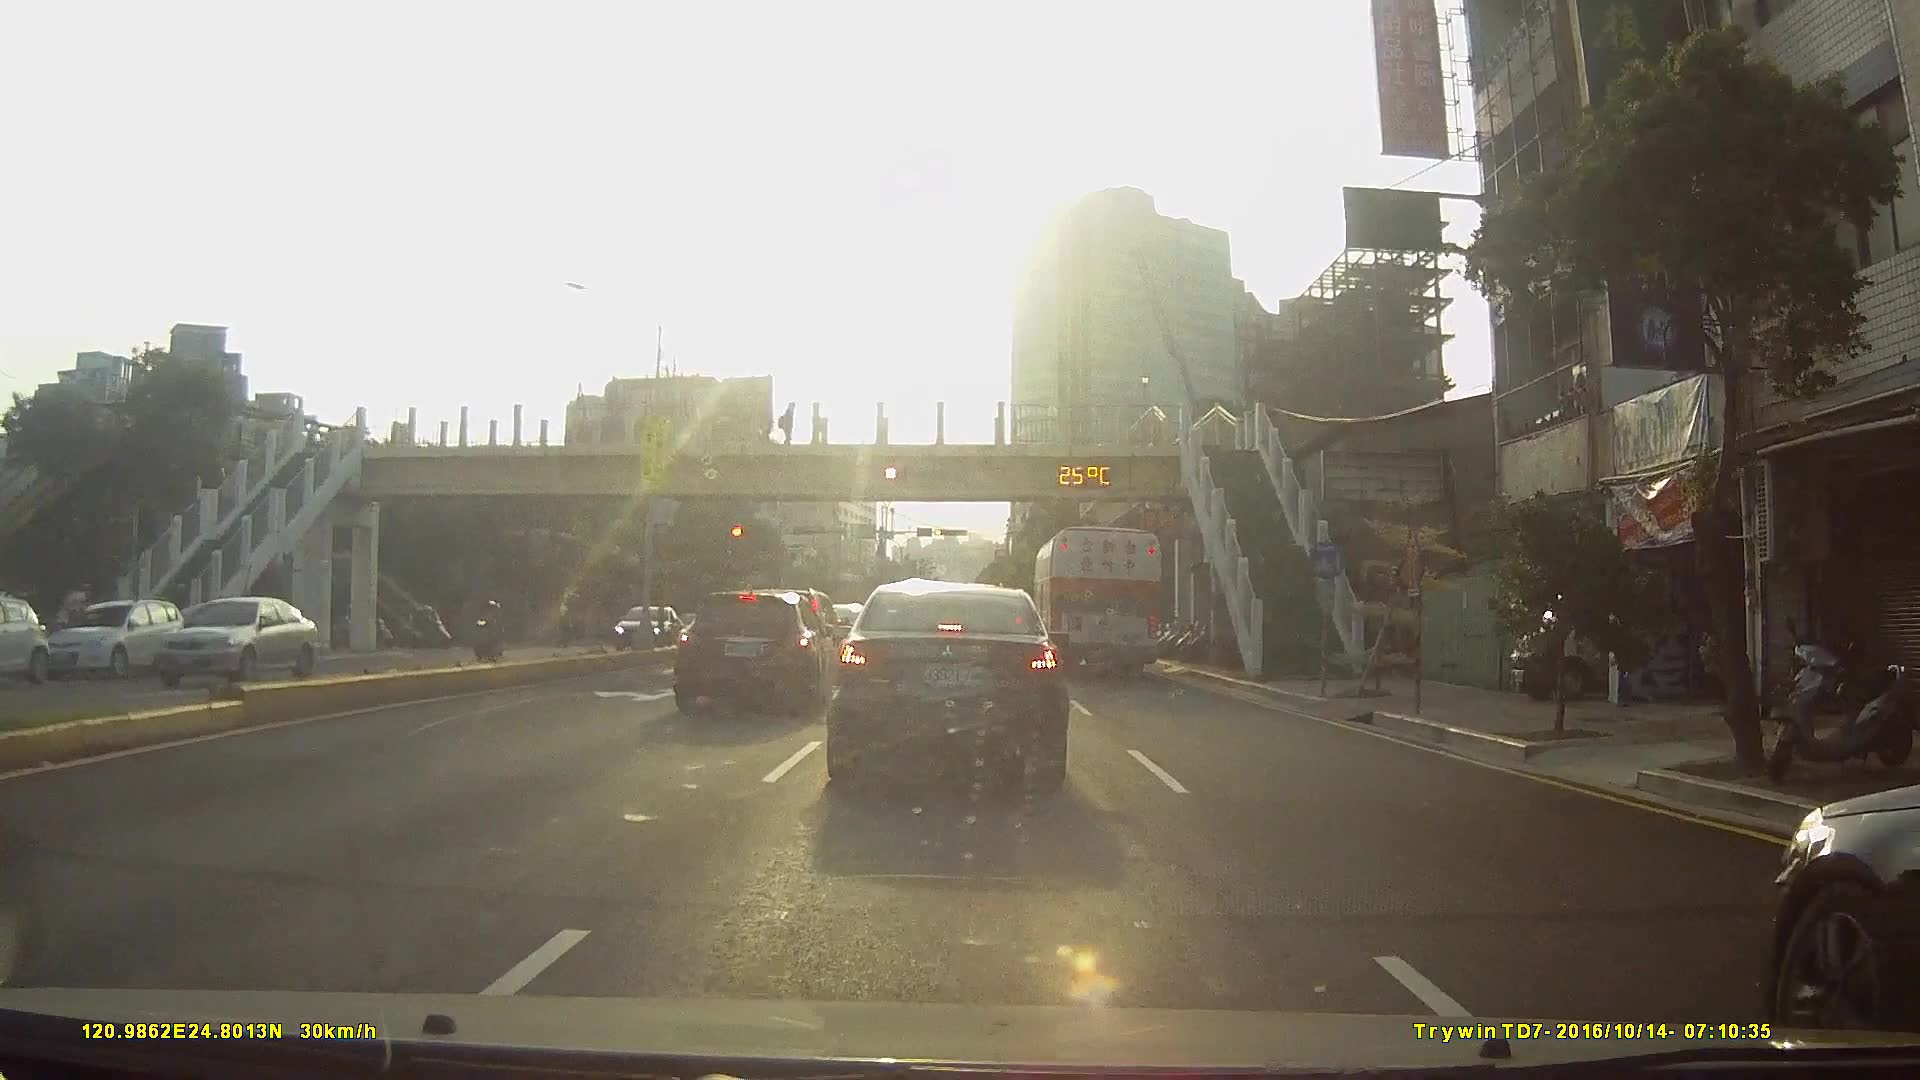pedestrian: (778, 402, 798, 448)
rider: (471, 597, 506, 663)
vehicle: (822, 581, 1071, 791), (666, 585, 842, 718), (1032, 523, 1163, 678), (129, 595, 307, 689), (40, 598, 182, 682), (172, 599, 278, 669), (0, 595, 47, 686), (605, 604, 680, 652)
